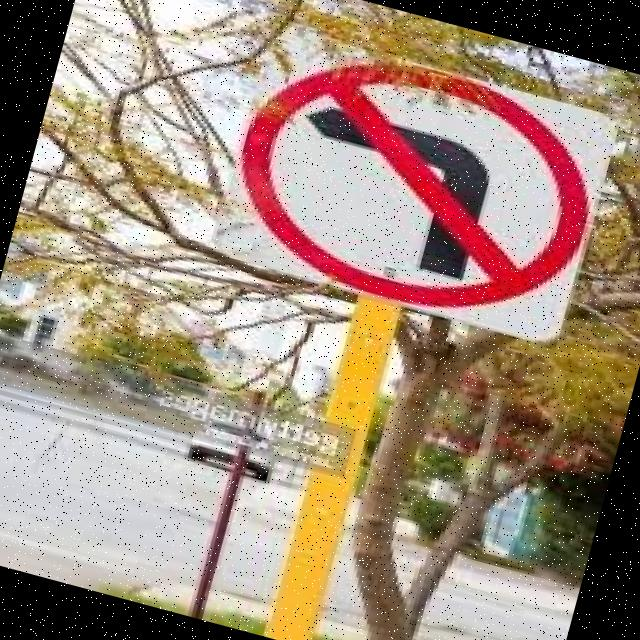do_not_turn_right: (214, 27, 606, 344)
